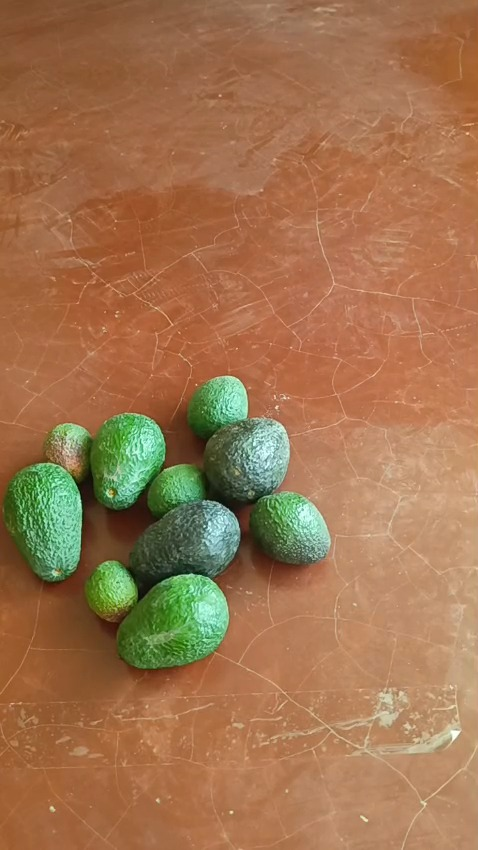Primera: (115, 571, 230, 668), (0, 462, 83, 581), (129, 500, 240, 587), (203, 417, 290, 504), (88, 411, 166, 507)
Segunda: (248, 491, 330, 563), (186, 375, 248, 439)
Tercera: (84, 559, 138, 622), (146, 464, 207, 518), (43, 422, 93, 483)
